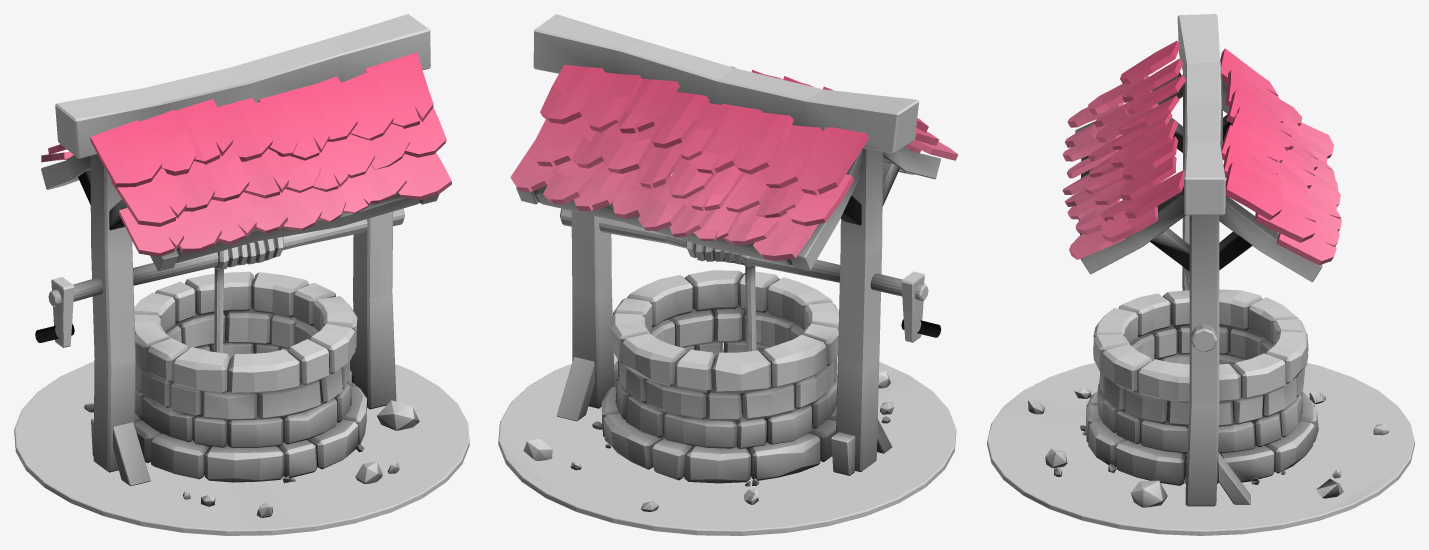
The model's file is well6.fbx.
The picture shows the model from 3 angles, left to right: view 1: azimuth 30°, elevation 25°; view 2: azimuth 150°, elevation 25°; view 3: azimuth 270°, elevation 25°; orthographic projection. The views are drawn at different scales.
Visible parts, largest first — view 1: Cylinder.147, Plane.005; view 2: Cylinder.147, Plane.004, Plane.005; view 3: Cylinder.147, Plane.005, Plane.004.
Boxes of the visible parts, left/top/right/bottom form: Cylinder.147: left=14, top=14, right=469, bottom=535; Plane.005: left=90, top=52, right=451, bottom=256; Cylinder.147: left=498, top=14, right=956, bottom=535; Plane.004: left=510, top=65, right=868, bottom=260; Plane.005: left=731, top=66, right=958, bottom=160; Cylinder.147: left=987, top=14, right=1414, bottom=535; Plane.005: left=1062, top=40, right=1185, bottom=259; Plane.004: left=1220, top=48, right=1341, bottom=265.
Bounding box in the file's own units: 2928 × 2639 × 2863.
